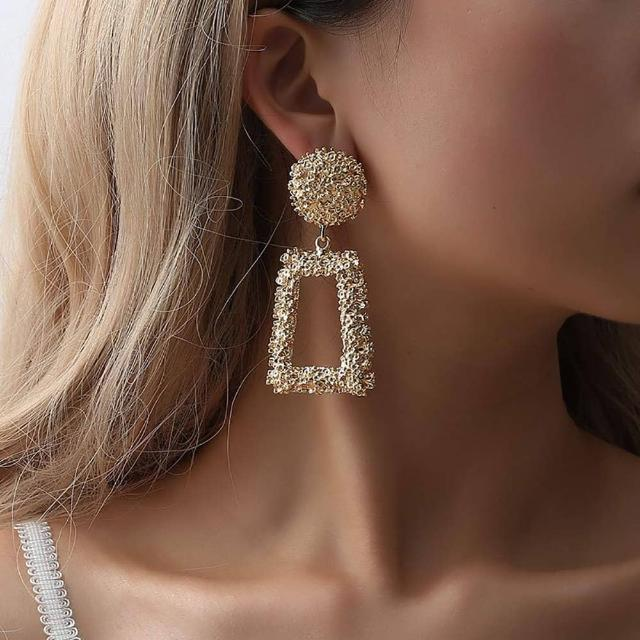ear ring: (269, 152, 369, 396)
